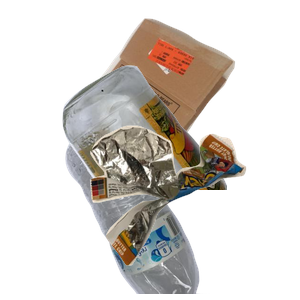cardboard: (67, 16, 295, 196)
glass: (60, 63, 300, 243)
plastic: (63, 120, 263, 300)
trash: (88, 123, 300, 300)
